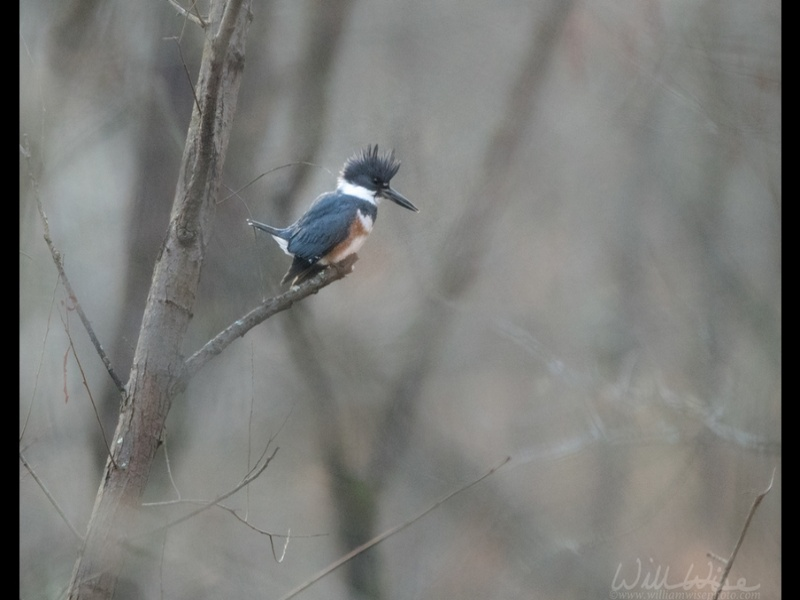kingfisher: (244, 141, 418, 305)
